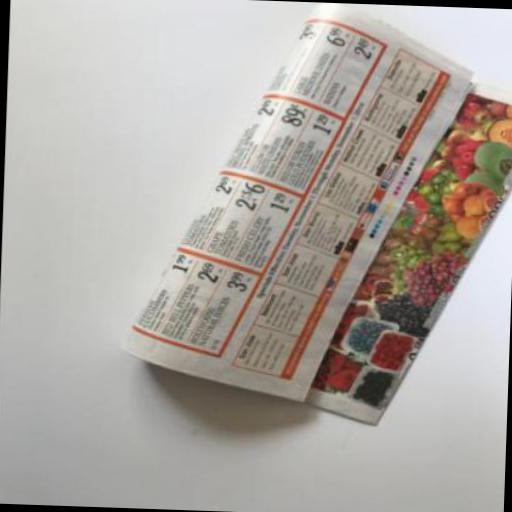paper: (121, 0, 512, 429)
